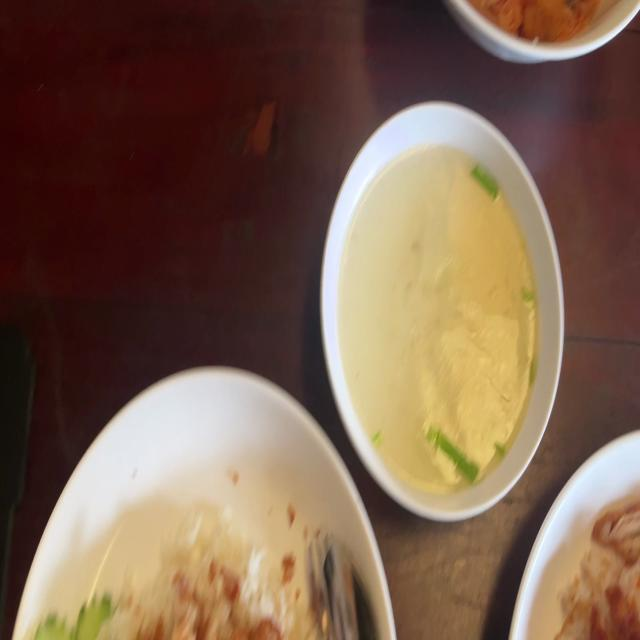chicken_rice: (62, 506, 358, 640), (553, 488, 640, 640)
cucumber: (32, 585, 117, 640)
fried_chicken: (149, 578, 284, 640), (590, 498, 640, 563), (590, 580, 639, 640)
noodle: (436, 0, 630, 68)
